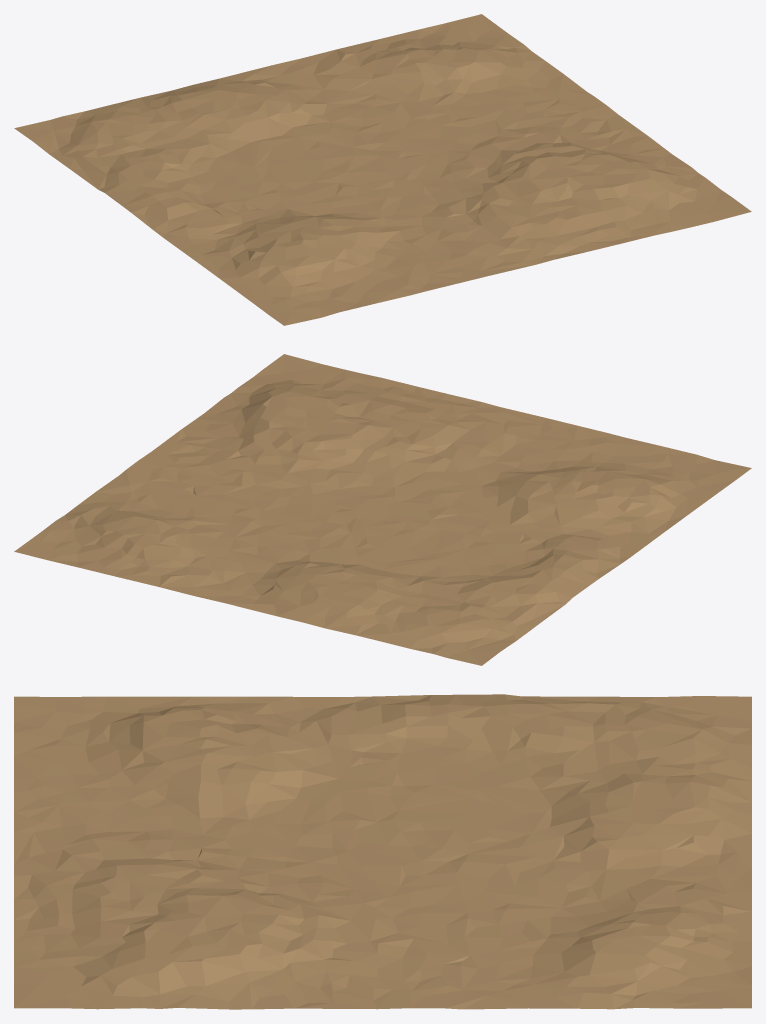
Rendered from scenePlane.fbx.
The picture shows the model from 3 angles, top to bottom: view 1: azimuth 30°, elevation 25°; view 2: azimuth 150°, elevation 25°; view 3: azimuth 270°, elevation 25°; orthographic projection. The views are drawn at different scales.
Visible parts, largest first — view 1: scenePlane; view 2: scenePlane; view 3: scenePlane.
Boxes of the visible parts, x1,y1,x2,y2 form: scenePlane: (14,14,751,325); scenePlane: (14,354,751,665); scenePlane: (14,694,751,1009).
Size of the model in its own units: 2000 by 56.11 by 2000.
